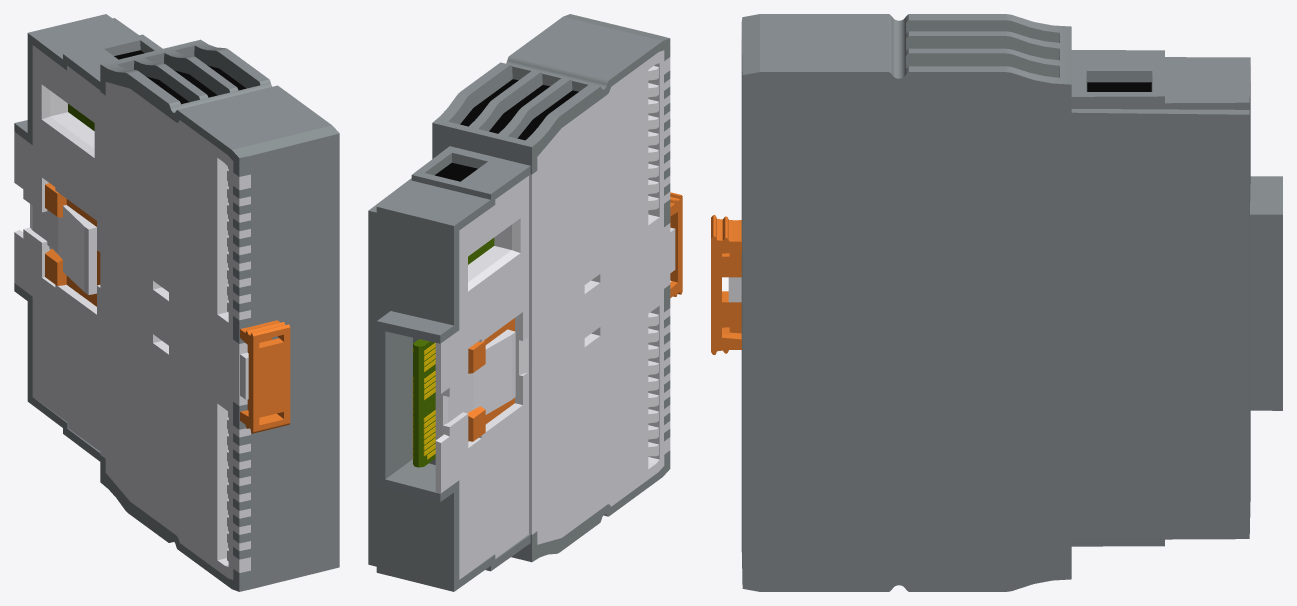
The model's file is AXL SE SC-A.obj.
The picture shows the model from 3 angles, left to right: view 1: azimuth 30°, elevation 25°; view 2: azimuth 150°, elevation 25°; view 3: azimuth 270°, elevation 25°; orthographic projection. The views are drawn at different scales.
Visible parts, largest first — view 1: 1088134_1; view 2: 1088134_1; view 3: 1088134_1.
Boxes of the visible parts, <box> form: 1088134_1: <box>14,14,339,591</box>; 1088134_1: <box>368,14,682,591</box>; 1088134_1: <box>711,14,1282,591</box>.
Size of the model in its own units: 14.9 by 62.2 by 62.
